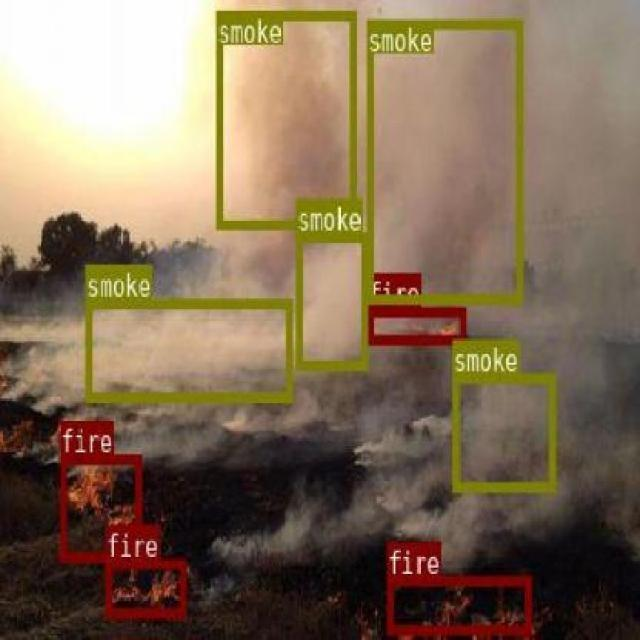fire: (59, 454, 141, 562), (385, 575, 530, 634), (104, 557, 184, 616), (367, 306, 465, 342)
smoke: (365, 17, 521, 303), (215, 9, 354, 229), (85, 297, 291, 402), (452, 373, 555, 490), (294, 232, 367, 369)
